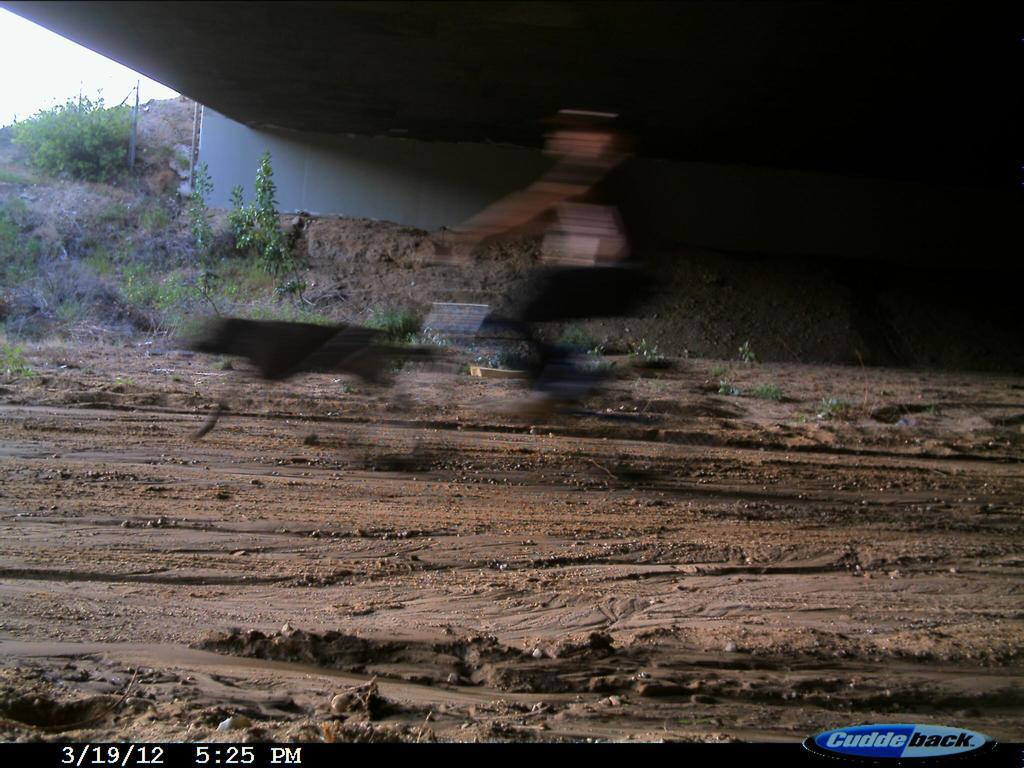dog: (180, 315, 459, 478)
